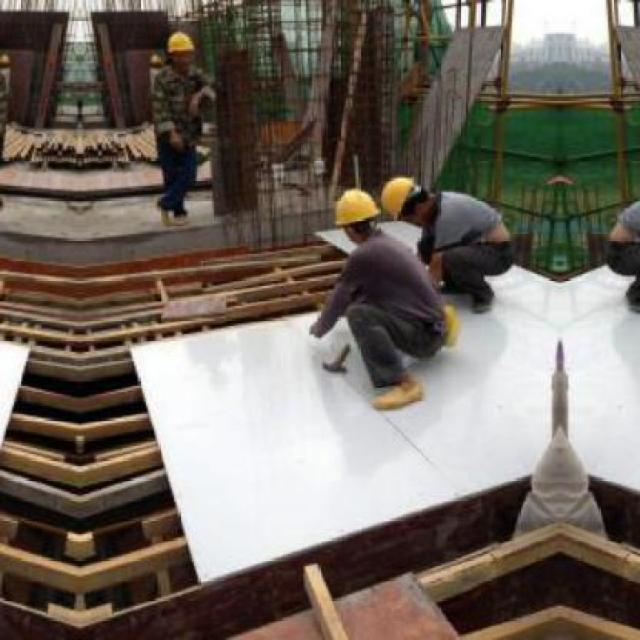boots: (373, 378, 423, 410), (471, 289, 493, 313)
hard-hat: (381, 176, 421, 220), (334, 189, 380, 226), (165, 32, 194, 55)
person: (307, 187, 449, 409), (381, 175, 514, 313), (149, 30, 217, 226)
